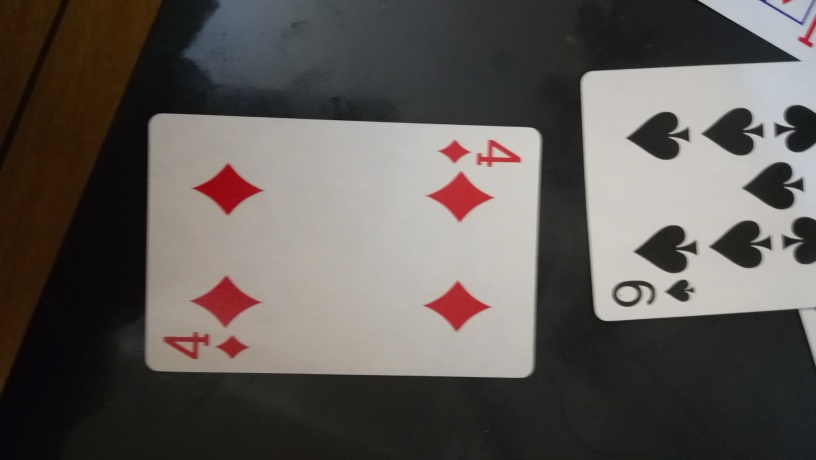fk 4: (140, 114, 542, 383)
ht 9: (573, 62, 816, 325)
